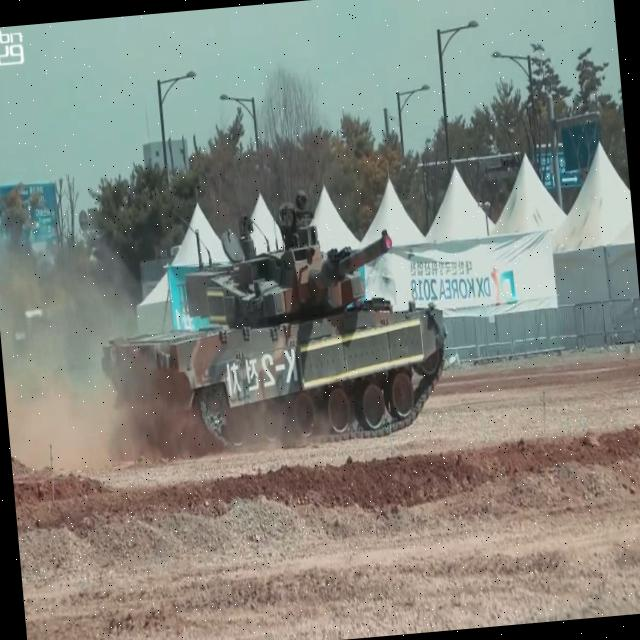korea tank: (87, 177, 457, 466)
